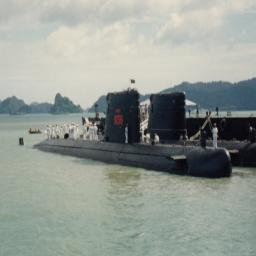submarine: (13, 89, 234, 178), (139, 87, 256, 168)
